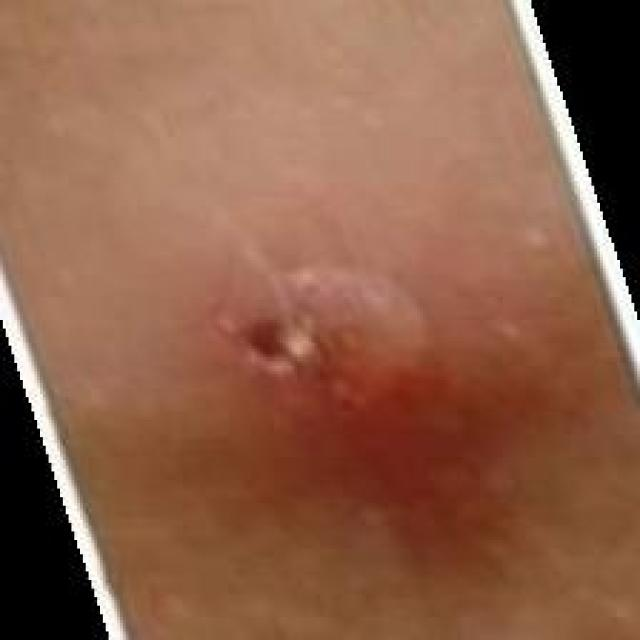others: (56, 24, 580, 640)
